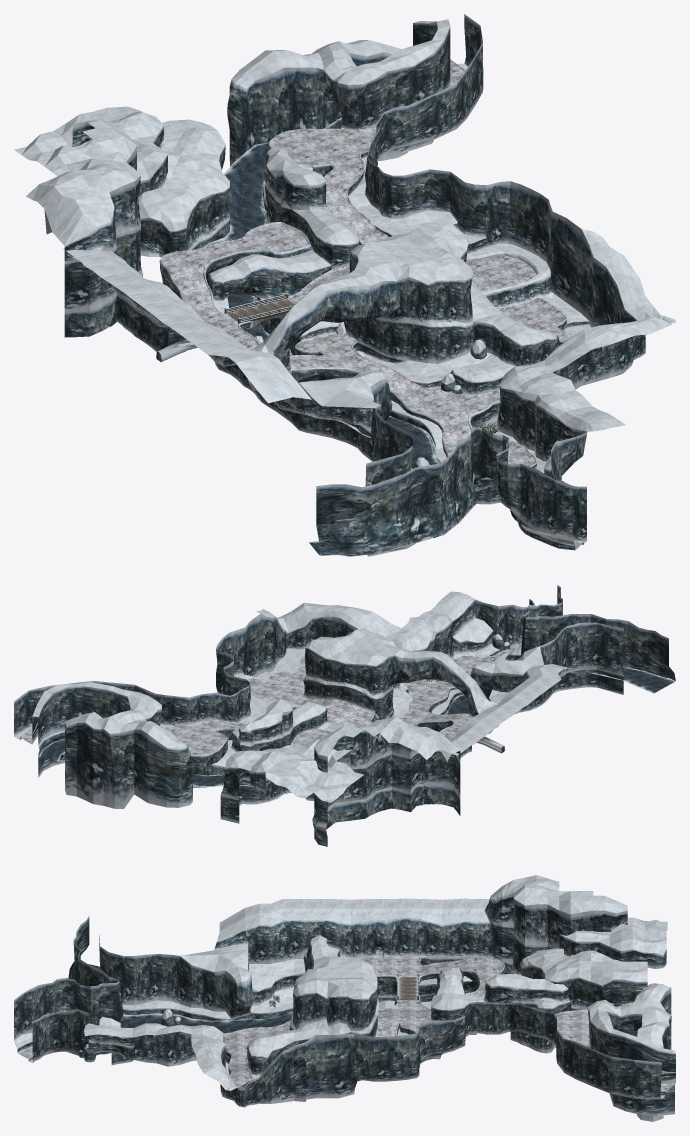
The model's file is YumirValley1.obj.
The picture shows the model from 3 angles, top to bottom: view 1: azimuth 30°, elevation 25°; view 2: azimuth 150°, elevation 25°; view 3: azimuth 270°, elevation 25°; orthographic projection. The views are drawn at different scales.
Parts seen in each view (by area): view 1: Object.12, Object.6, Object.2, Object.4, Object.8; view 2: Object.12, Object.6, Object.2, Object.4, Object.8; view 3: Object.12, Object.6, Object.4, Object.2, Object.8, Object.3.
Part boxes in pixels (<box>): Object.12: <box>64,14,645,556</box>; Object.6: <box>14,19,675,544</box>; Object.2: <box>160,59,583,549</box>; Object.4: <box>64,122,589,550</box>; Object.8: <box>204,117,475,555</box>; Object.12: <box>14,585,675,846</box>; Object.6: <box>14,591,623,802</box>; Object.2: <box>20,647,517,755</box>; Object.4: <box>20,599,520,792</box>; Object.8: <box>38,666,675,786</box>; Object.12: <box>14,910,675,1121</box>; Object.6: <box>14,875,675,1098</box>; Object.4: <box>17,893,666,1101</box>; Object.2: <box>18,949,675,1091</box>; Object.8: <box>88,964,634,1035</box>; Object.3: <box>398,977,417,999</box>.
Size of the model in its own units: 162 by 51.25 by 232.
